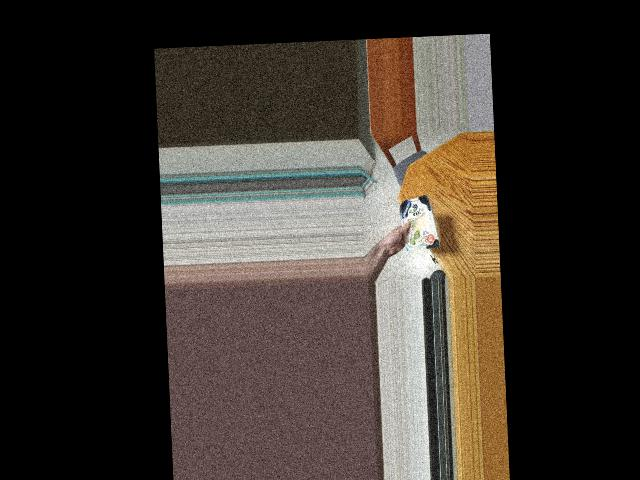cheese: (389, 195, 442, 254)
